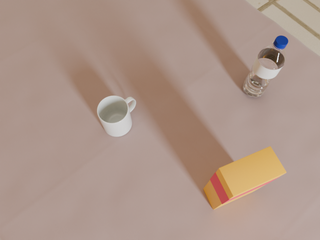bottle: (243, 36, 288, 98)
box: (204, 146, 286, 210)
cup: (97, 96, 136, 137)
